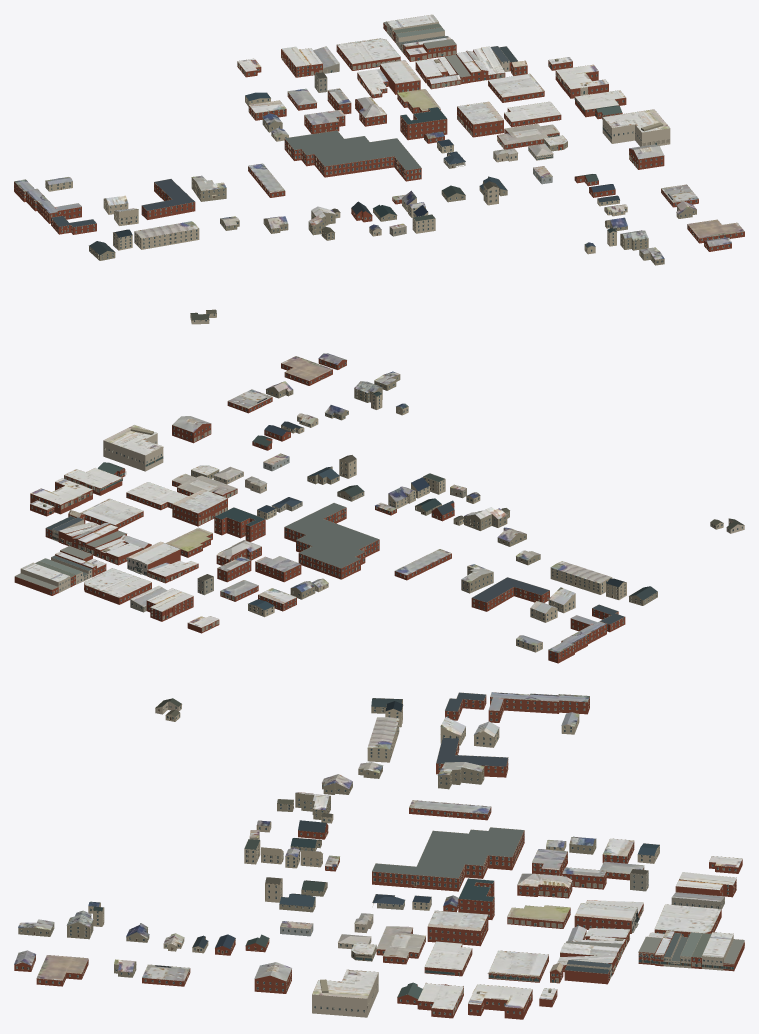
3 renders of one model, top to bottom at view 1: azimuth 30°, elevation 25°; view 2: azimuth 150°, elevation 25°; view 3: azimuth 270°, elevation 25°, orthographic. The views are drawn at different scales.
Visible parts, largest first — view 1: -1_0_269019848_1, -1_0_269020722_2, -1_0_451772531_16, -1_0_451772532_17, -1_0_269020755_3, -1_0_599817367_52; view 2: -1_0_269019848_1, -1_0_269020722_2, -1_0_451772531_16, -1_0_451772532_17, -1_0_269020755_3, -1_0_599817367_52; view 3: -1_0_269019848_1, -1_0_269020722_2, -1_0_451772531_16, -1_0_451772532_17, -1_0_269020755_3, -1_0_599817367_52.
Part boxes in pixels (x1,y1,x2,y2): -1_0_269019848_1: (14, 14, 744, 321); -1_0_269020722_2: (14, 23, 744, 265); -1_0_451772531_16: (51, 21, 622, 320); -1_0_451772532_17: (45, 96, 627, 317); -1_0_269020755_3: (190, 22, 670, 324); -1_0_599817367_52: (314, 63, 464, 236); -1_0_269019848_1: (14, 353, 744, 659); -1_0_269020722_2: (14, 359, 657, 663); -1_0_451772531_16: (15, 391, 743, 624); -1_0_451772532_17: (248, 394, 723, 652); -1_0_269020755_3: (20, 433, 744, 593); -1_0_599817367_52: (130, 487, 466, 612); -1_0_269019848_1: (14, 692, 744, 1015); -1_0_269020722_2: (14, 695, 744, 1019); -1_0_451772531_16: (93, 692, 744, 998); -1_0_451772532_17: (88, 707, 659, 953); -1_0_269020755_3: (155, 701, 733, 1017); -1_0_599817367_52: (249, 832, 724, 909).
Size of the model in its own units: 537 by 21.77 by 515.
25 materials, 1 textured.
